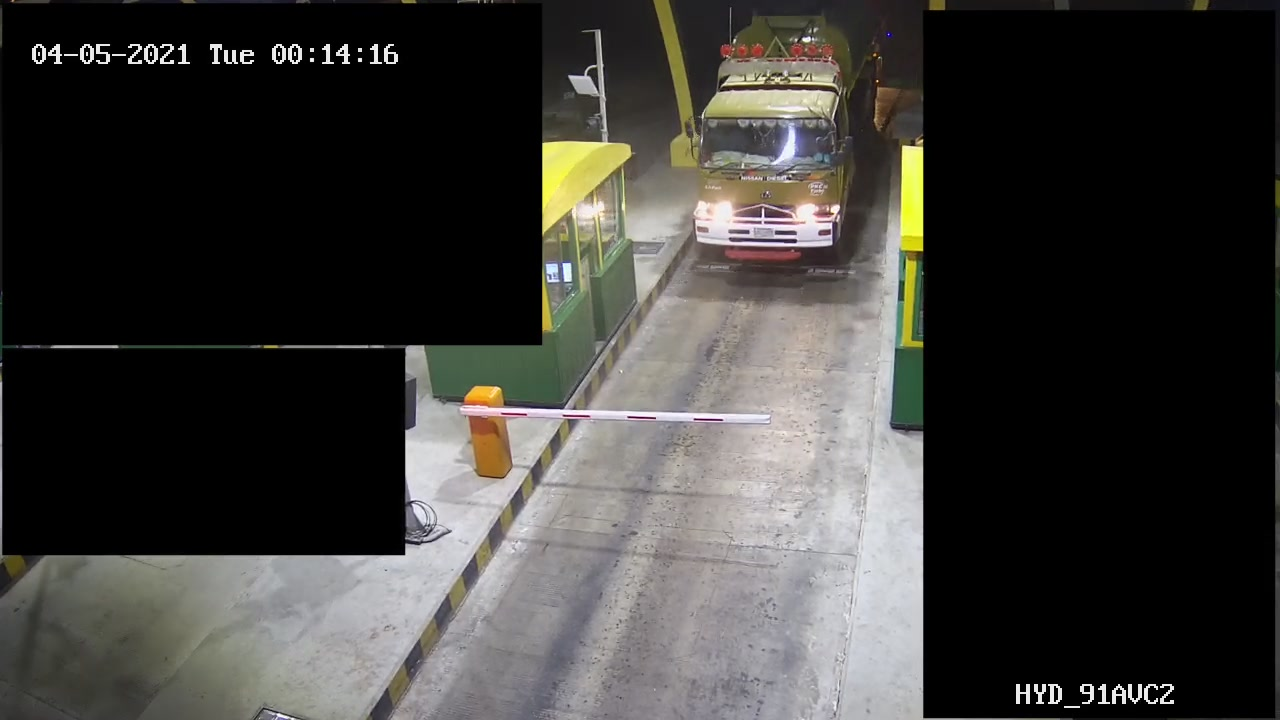F6: (671, 1, 904, 287)
